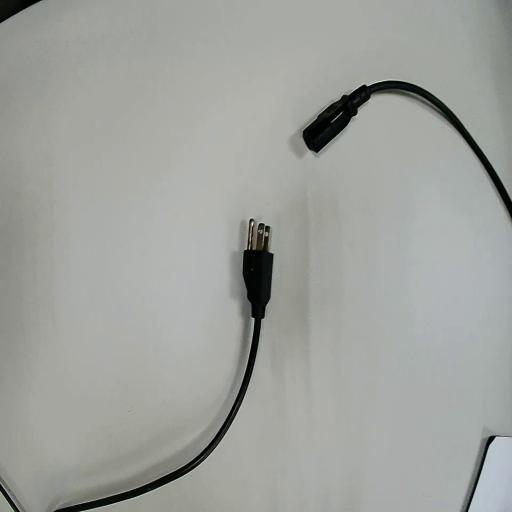wire: (56, 234, 272, 511), (303, 81, 511, 216)
